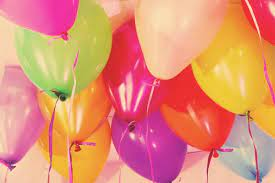Balloon: (185, 1, 267, 115), (136, 1, 225, 81), (112, 112, 187, 183), (1, 67, 53, 165), (1, 1, 75, 36)
